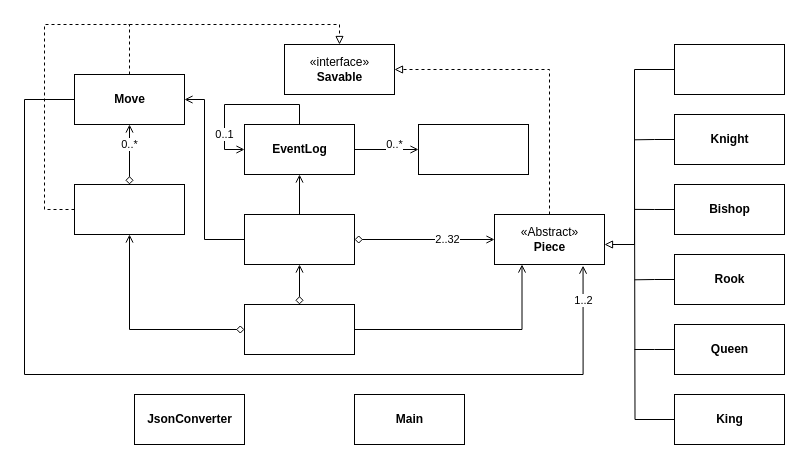
This 802x462 diagram has some shape labels left out. The centre of each missing label's shape, as x and y in pixels:
"ChessGameGUI" goes at point (299, 329).
"Event" goes at point (473, 149).
"GameBoard" goes at point (299, 239).
"MoveList" goes at point (129, 209).
"Pawn" goes at point (729, 69).
